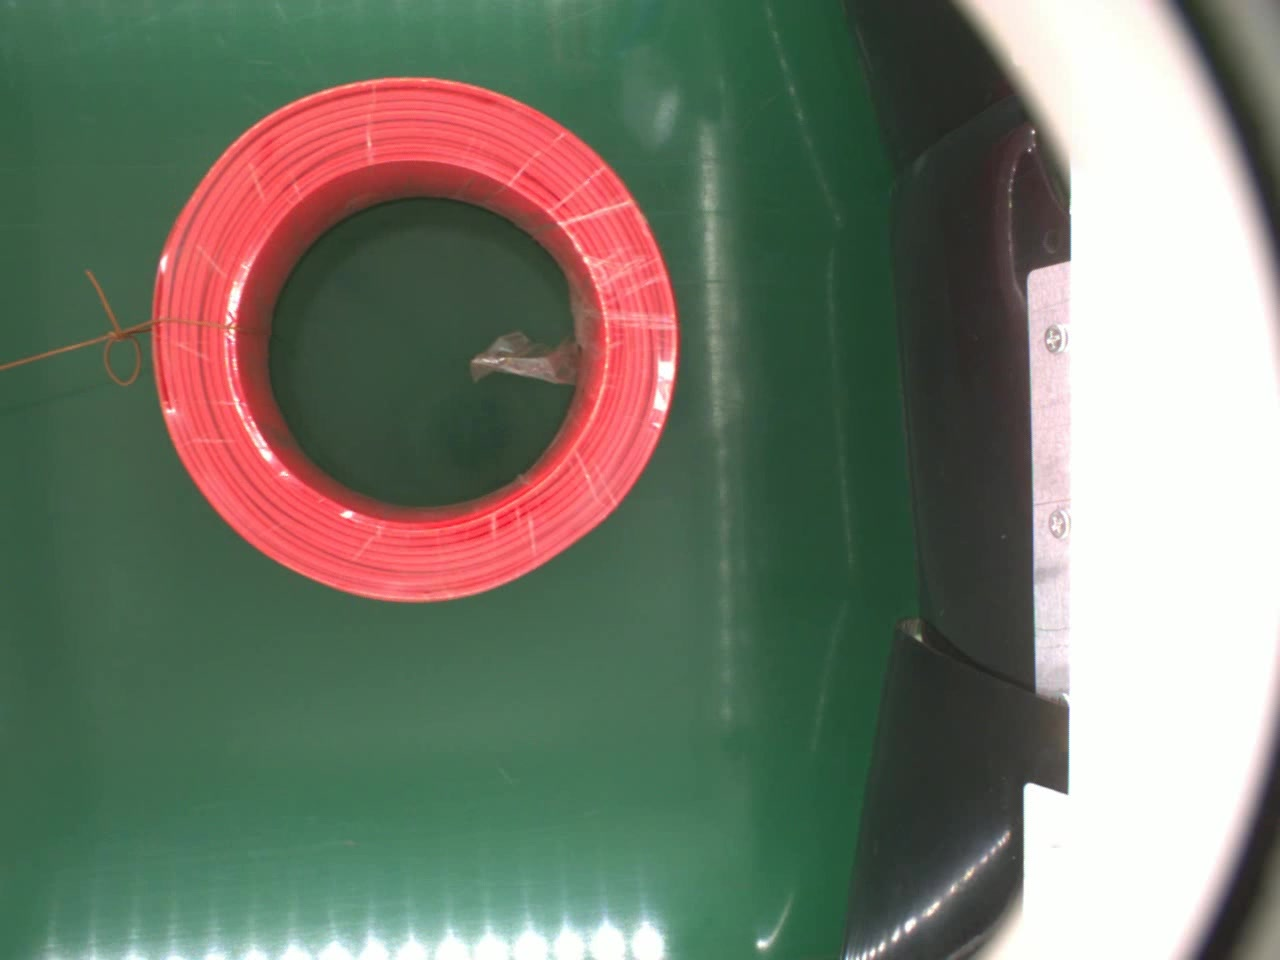red: (150, 75, 680, 601)
